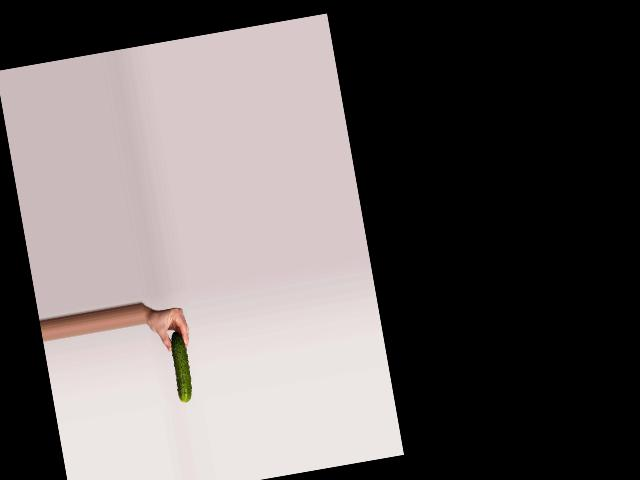cucumber: (168, 330, 194, 402)
